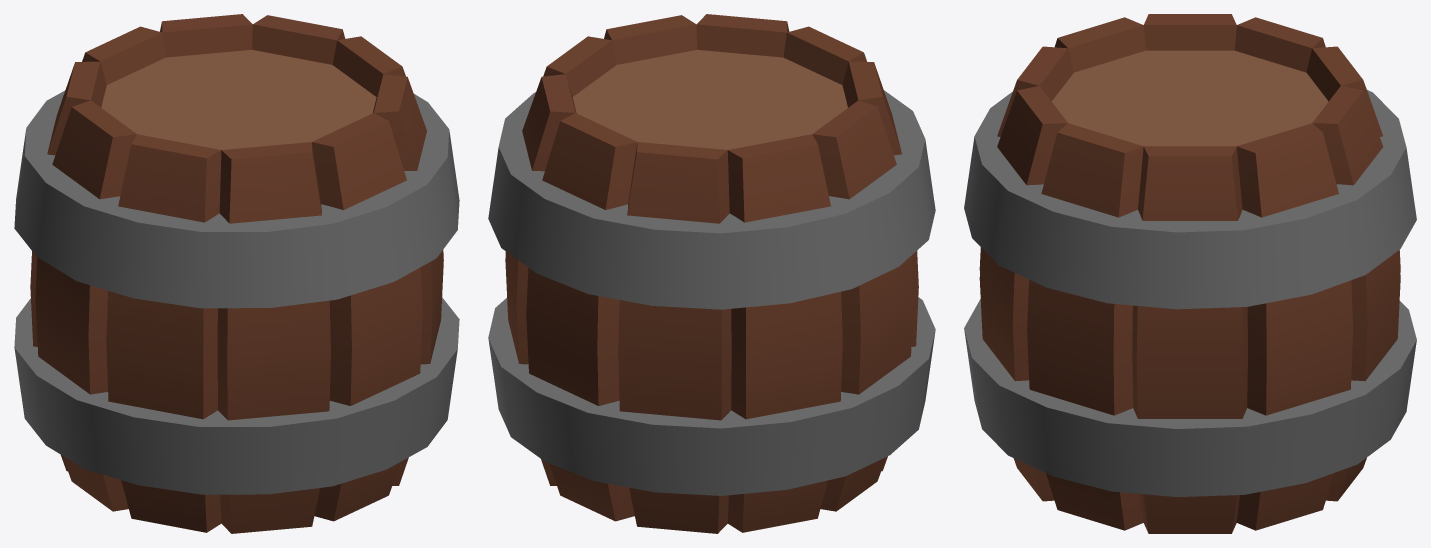
Rendered from Barrel_02.fbx.
3 views of the same model, side by side, from view 1: azimuth 30°, elevation 25°; view 2: azimuth 150°, elevation 25°; view 3: azimuth 270°, elevation 25° (orthographic).
Parts seen in each view (by area): view 1: Barrel_02; view 2: Barrel_02; view 3: Barrel_02.
Part boxes in pixels (x1,y1,x2,y2): Barrel_02: (14, 14, 459, 533); Barrel_02: (488, 14, 935, 533); Barrel_02: (964, 14, 1416, 533).
Size of the model in its own units: 87.19 by 80.6 by 87.63.
